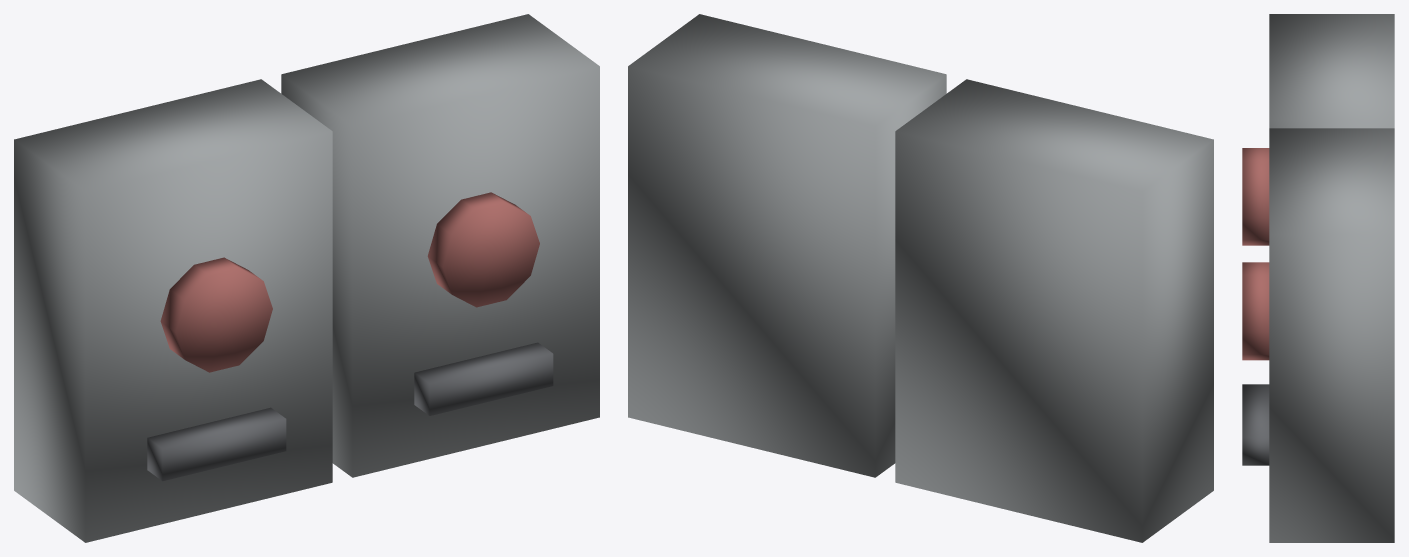
File: sanitation_dispenser__cluster.glb
The picture shows the model from 3 angles, left to right: view 1: azimuth 30°, elevation 25°; view 2: azimuth 150°, elevation 25°; view 3: azimuth 270°, elevation 25°; orthographic projection. The views are drawn at different scales.
Visible parts, largest first — view 1: world; view 2: world; view 3: world.
Boxes of the visible parts, left/top/right/bottom form: world: left=14, top=14, right=599, bottom=542; world: left=628, top=14, right=1213, bottom=542; world: left=1242, top=14, right=1394, bottom=542.
Bounding box in the file's own units: 0.5824 × 0.38 × 0.17.
